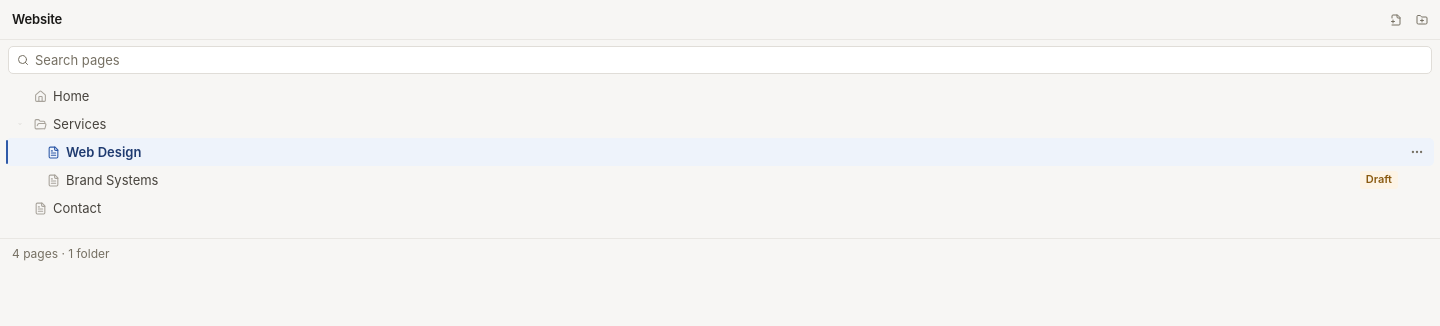
website explorer › surfaces a failed edit instead of reporting a change
Press F2 in the button "Contact", box x1=34 y1=194 x2=1398 y2=222
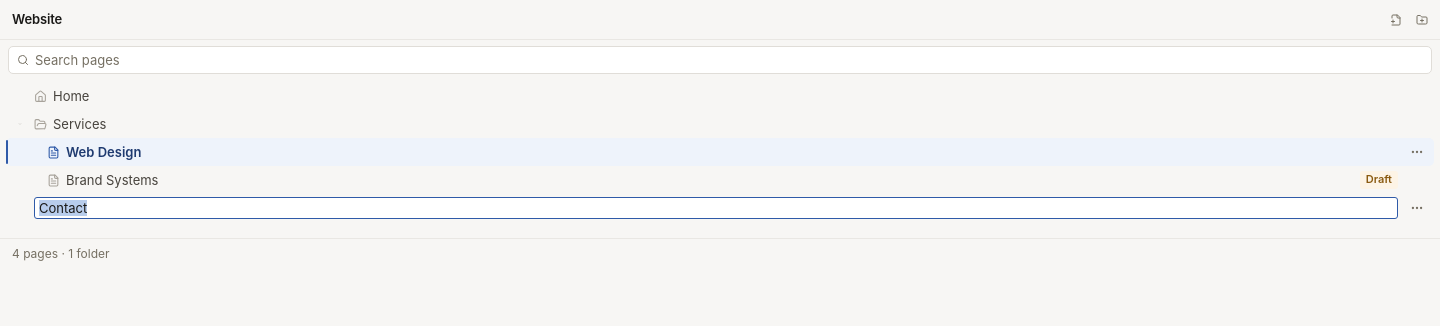
Replace the text in the field named "Rename Contact" with "Home" at (716, 208), box x1=34 y1=197 x2=1398 y2=219
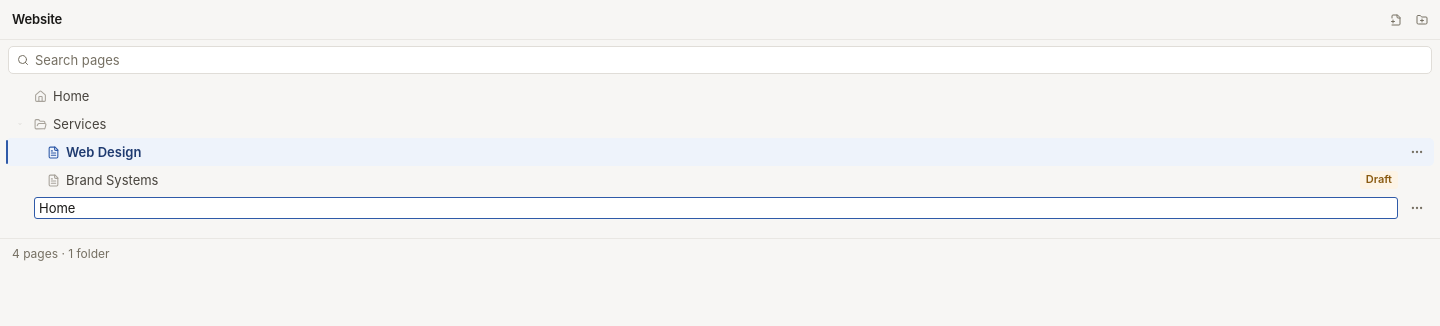
Press Enter in the field named "Rename Contact", box x1=34 y1=197 x2=1398 y2=219
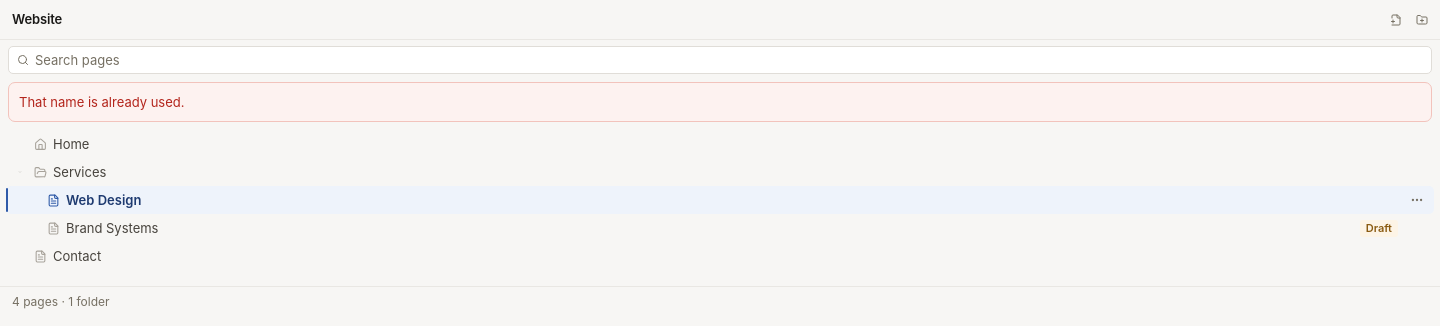
expect the message reads "That name is already used.": met, box x1=19 y1=94 x2=184 y2=110
